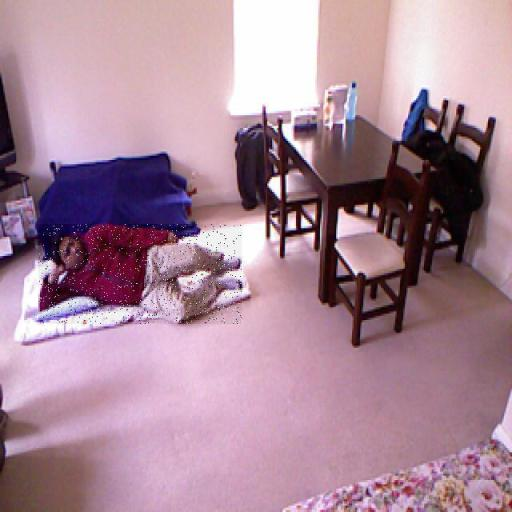Fall: (39, 224, 242, 324)
